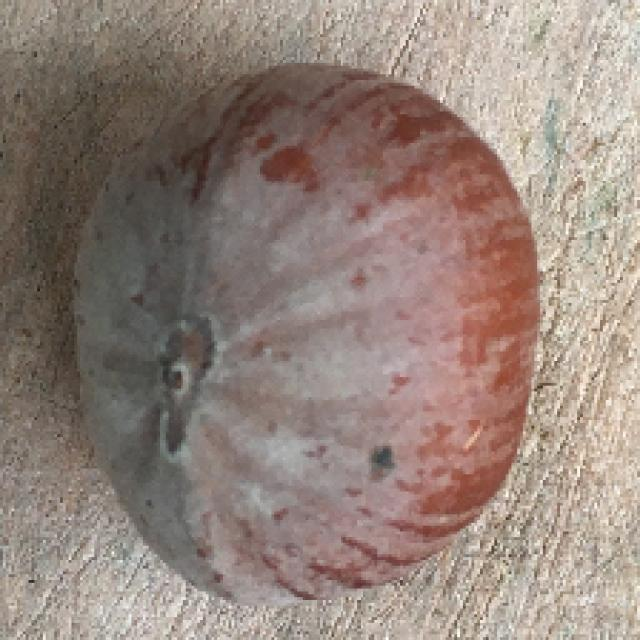damagedHazelnut: (70, 62, 546, 594)
